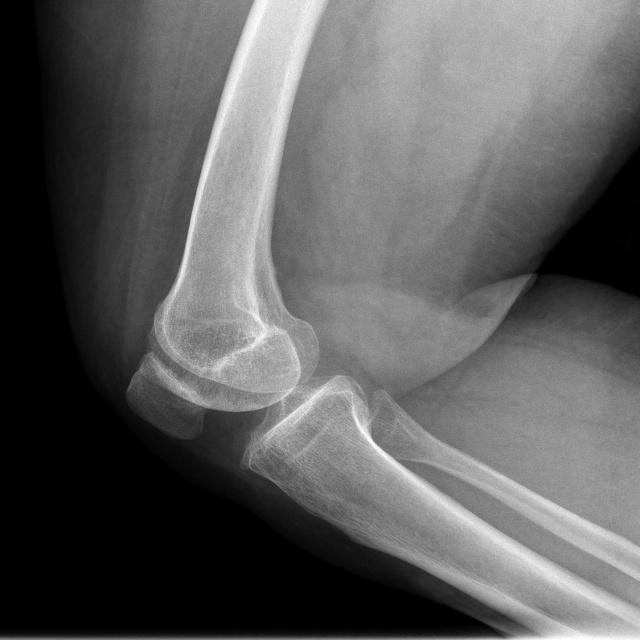Knee: (124, 289, 364, 484)
